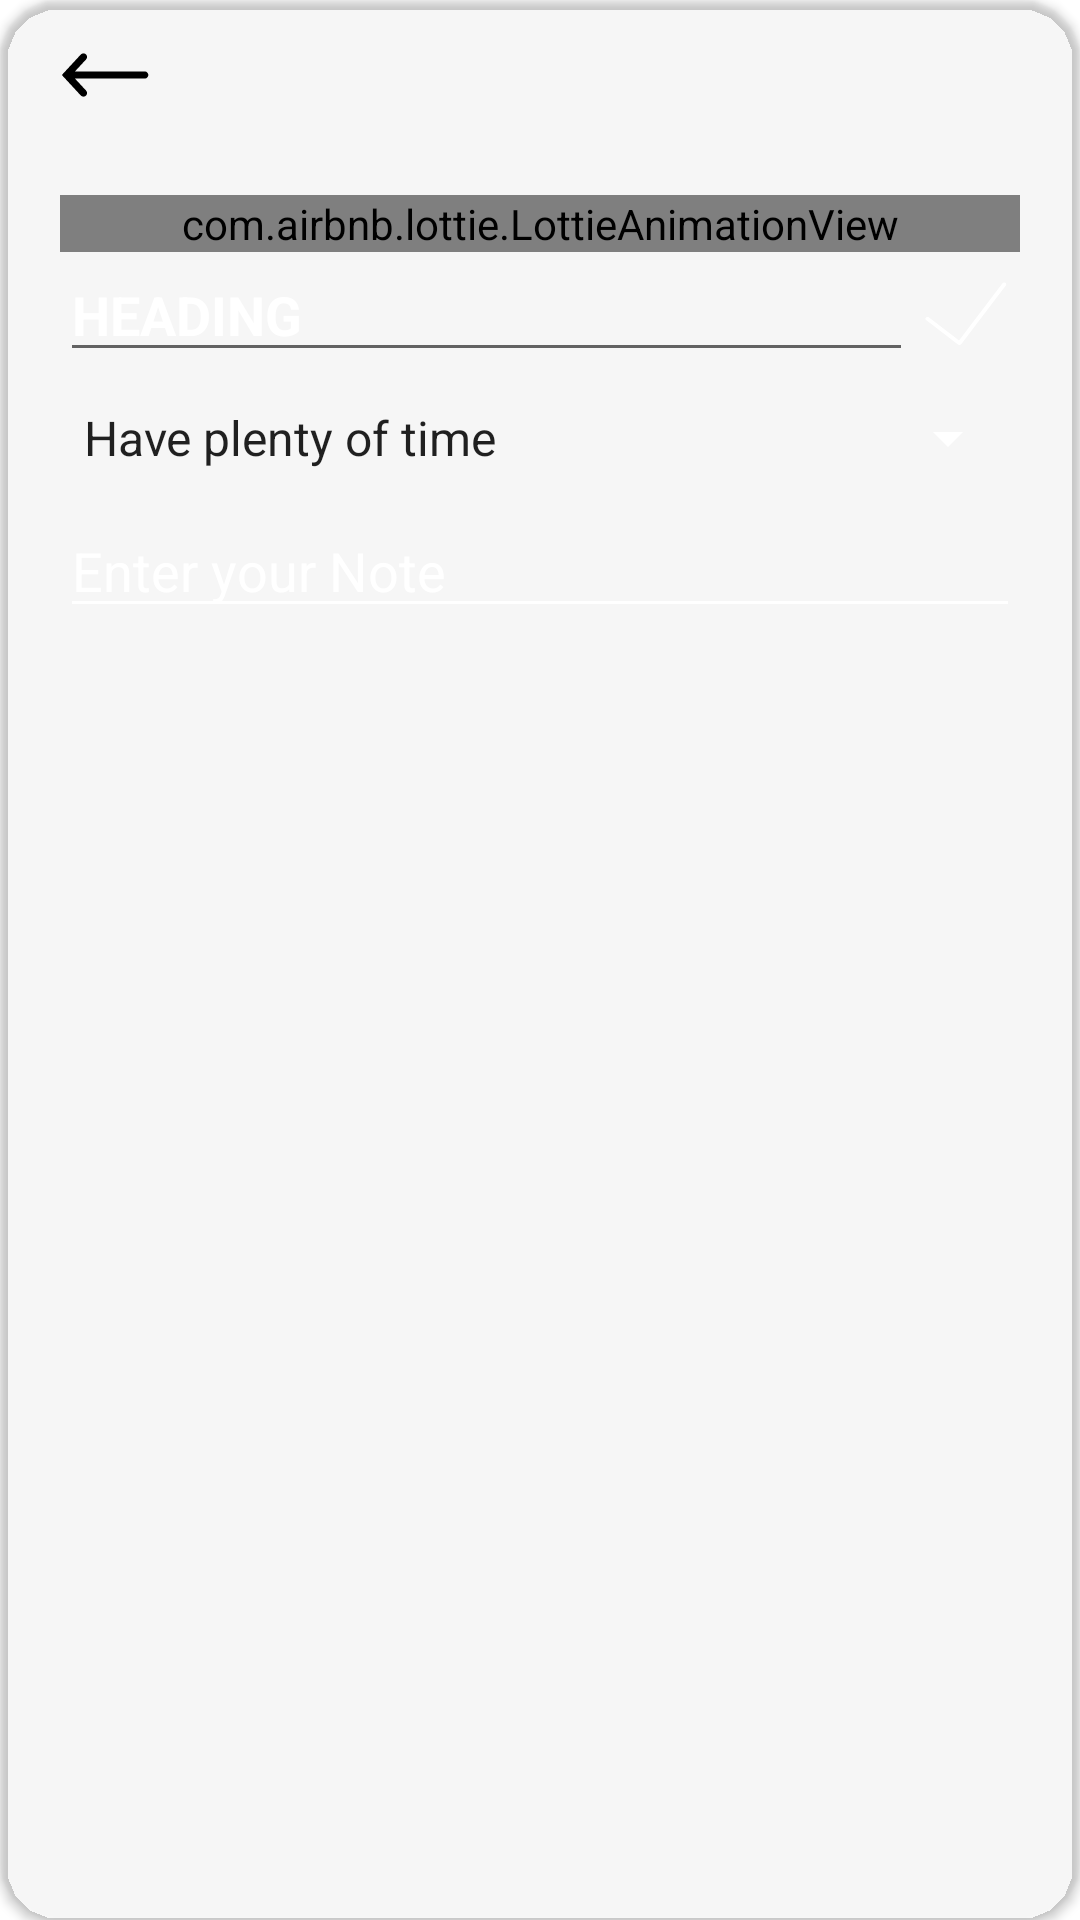

Screen size 1080×1920. Icon name, then its center in pixels as (x,y):
back button: (105,75)
